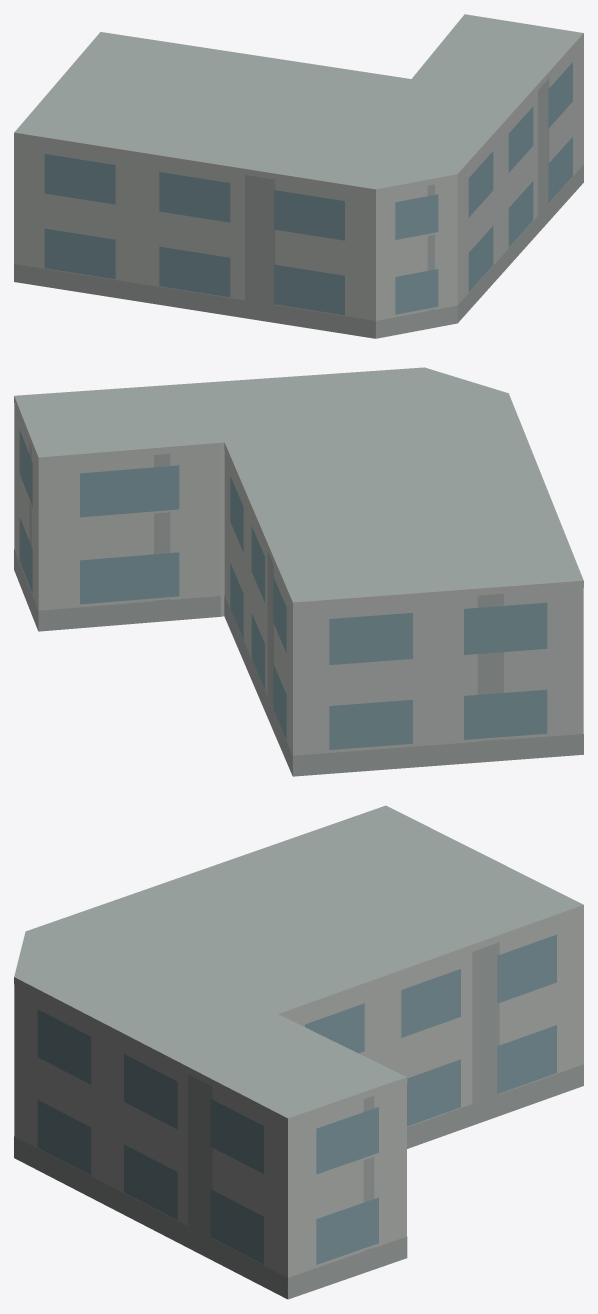
The model's file is survey-upis-32866996.glb.
3 views of the same model, one above another, from view 1: azimuth 30°, elevation 25°; view 2: azimuth 150°, elevation 25°; view 3: azimuth 270°, elevation 25° (orthographic). The views are drawn at different scales.
Parts seen in each view (by area): view 1: survey-upis-32866996.tmp; view 2: survey-upis-32866996.tmp; view 3: survey-upis-32866996.tmp.
Boxes of the visible parts, x1=… form: survey-upis-32866996.tmp: x1=14, y1=14, x2=583, y2=338; survey-upis-32866996.tmp: x1=14, y1=367, x2=583, y2=776; survey-upis-32866996.tmp: x1=14, y1=805, x2=583, y2=1299.
Size of the model in its own units: 22.63 by 6.1 by 17.41.
